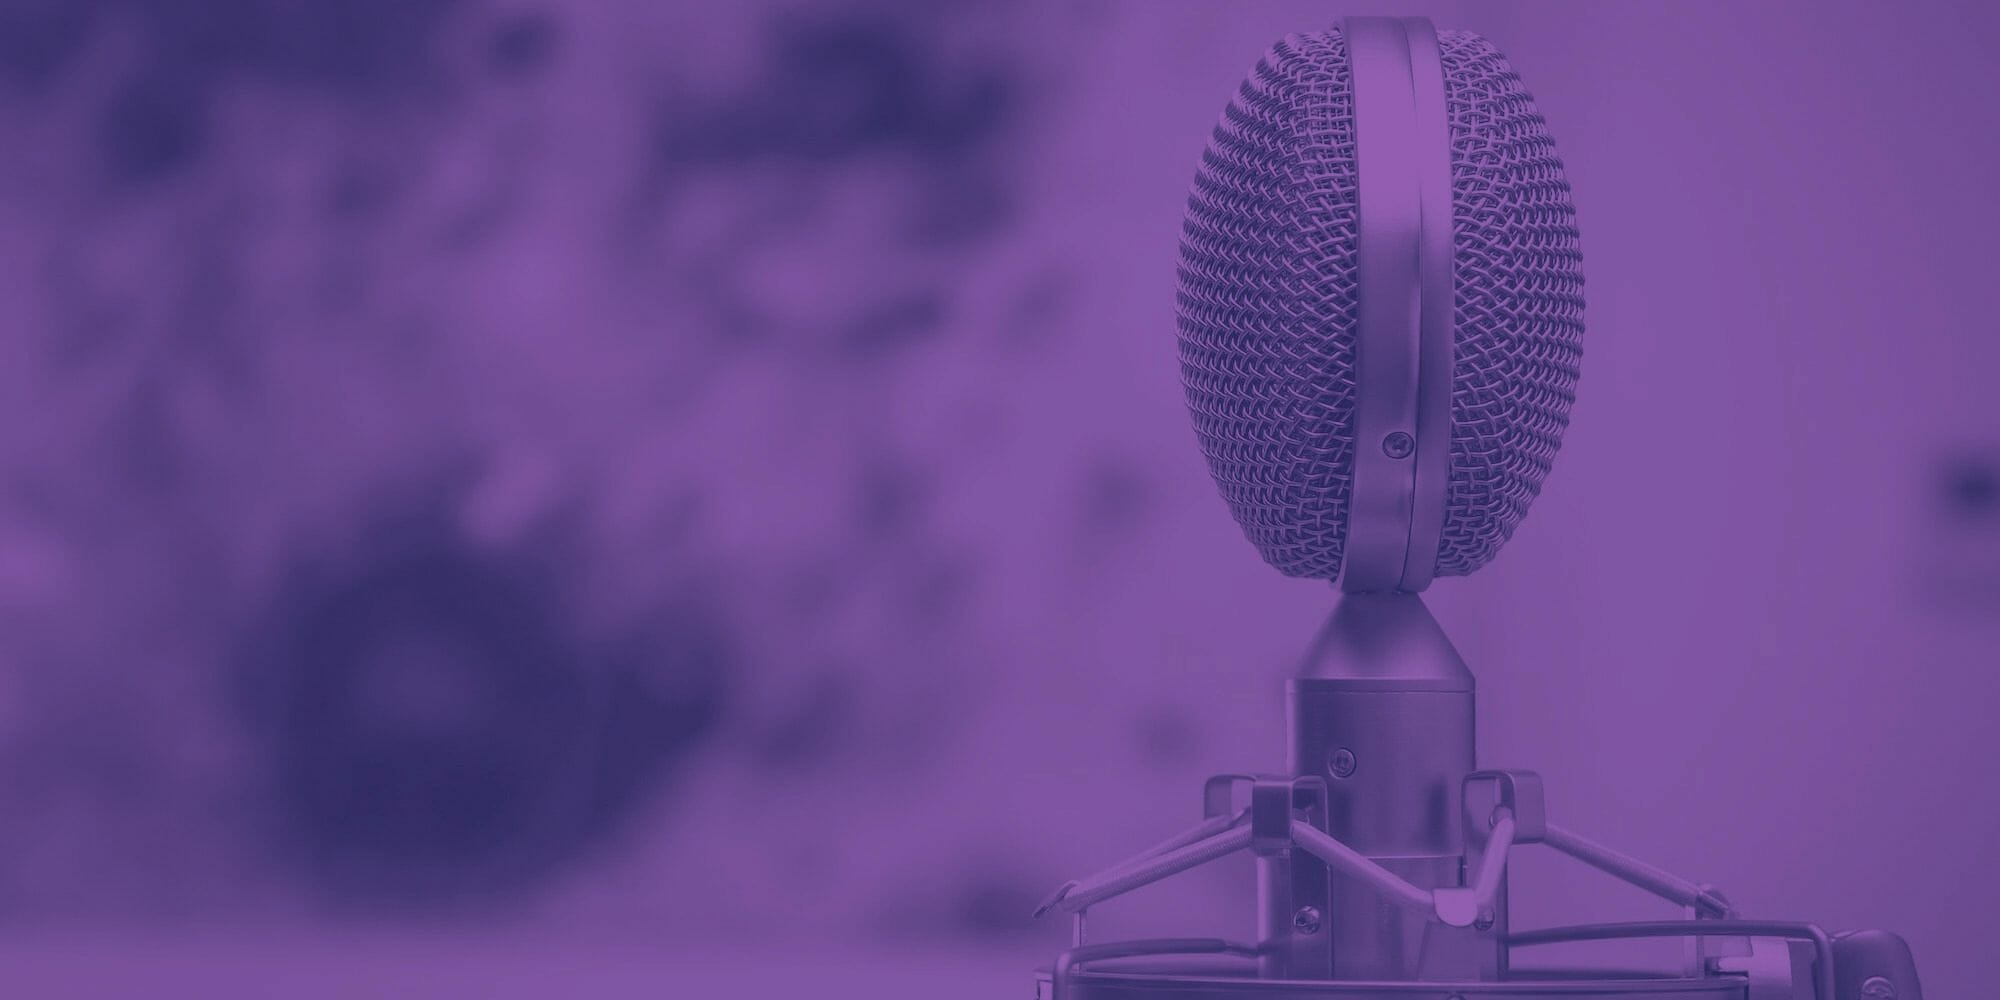microphone: (1168, 11, 1596, 1000)
